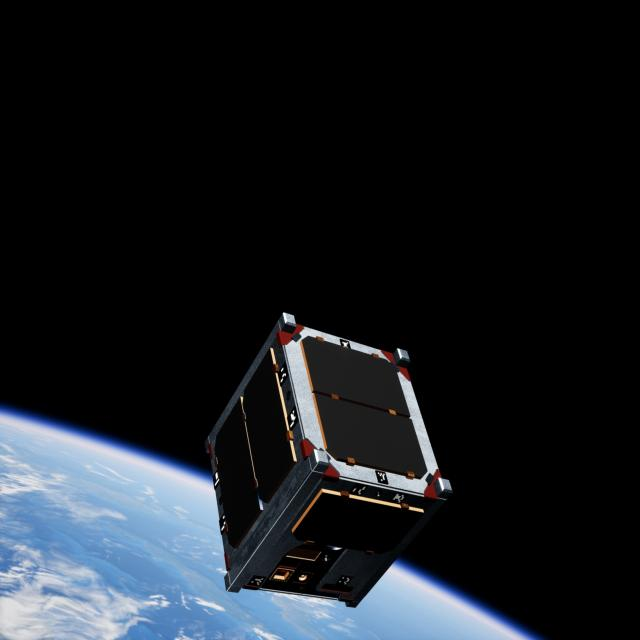medium_debris: (201, 305, 459, 611)
